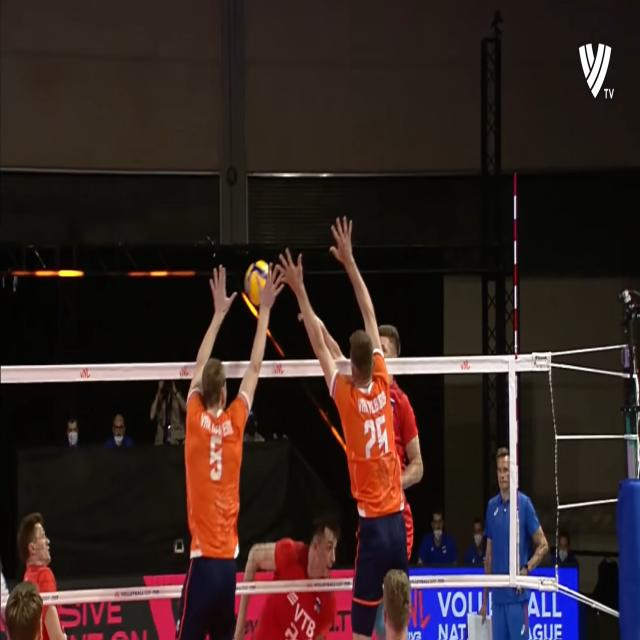player: (304, 240, 415, 640), (183, 262, 252, 640), (244, 525, 339, 640), (19, 505, 66, 640)
